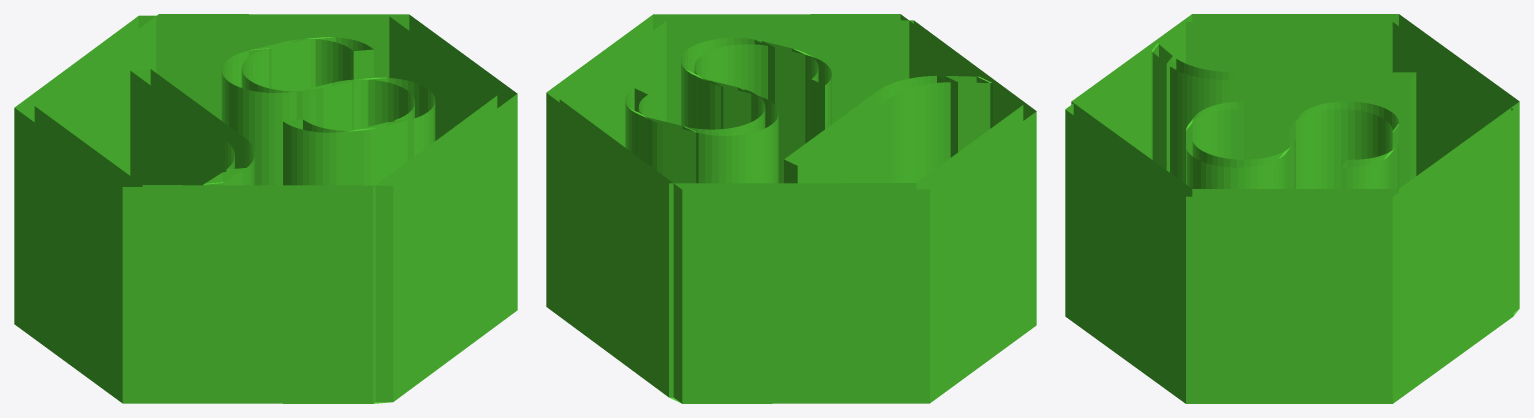
File: nodejs2.glb
3 renders of one model, left to right at view 1: azimuth 30°, elevation 25°; view 2: azimuth 150°, elevation 25°; view 3: azimuth 270°, elevation 25°, orthographic. The views are drawn at different scales.
Parts seen in each view (by area): view 1: Curve; view 2: Curve; view 3: Curve.
Part boxes in pixels (<box>): Curve: <box>14,14,517,403</box>; Curve: <box>546,14,1036,403</box>; Curve: <box>1065,14,1519,403</box>.
Bounding box in the file's own units: 3.54 × 1.87 × 3.72.
